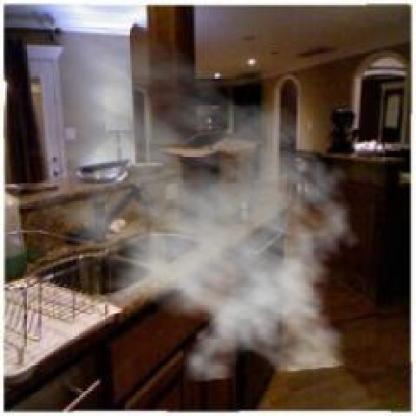Smoke: (3, 28, 371, 383)
